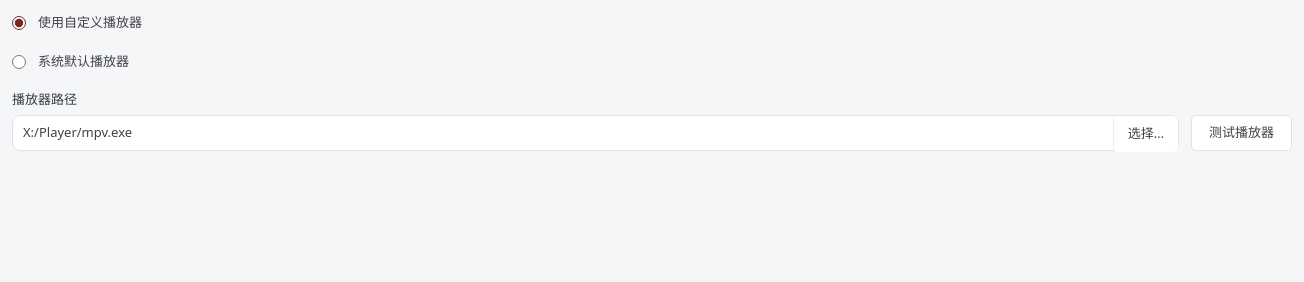
Test case: explicit player testing › does not mistake config errors for versions and reveals raw output only inside an explicit log
expect the text "screenshot-flags" is not shown: met
Click the button "测试播放器" at (1242, 133), box [1191,115,1292,151]
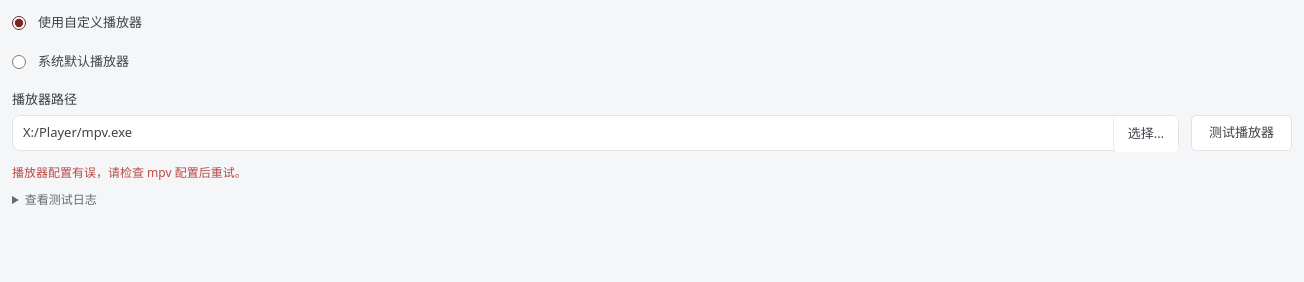
expect the message does not show "screenshot-flags": met
expect the message "播放器配置有误，请检查 mpv 配置后重试。" is shown: met, box [12,164,247,181]
Click the heading "查看测试日志" at (54, 200), box [12,190,97,210]
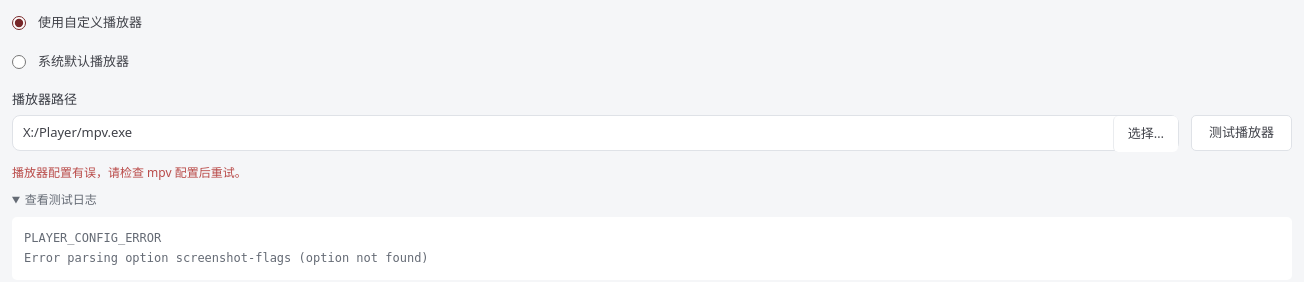
expect the text "Error parsing option" is shown: met, box [24,232,429,265]
